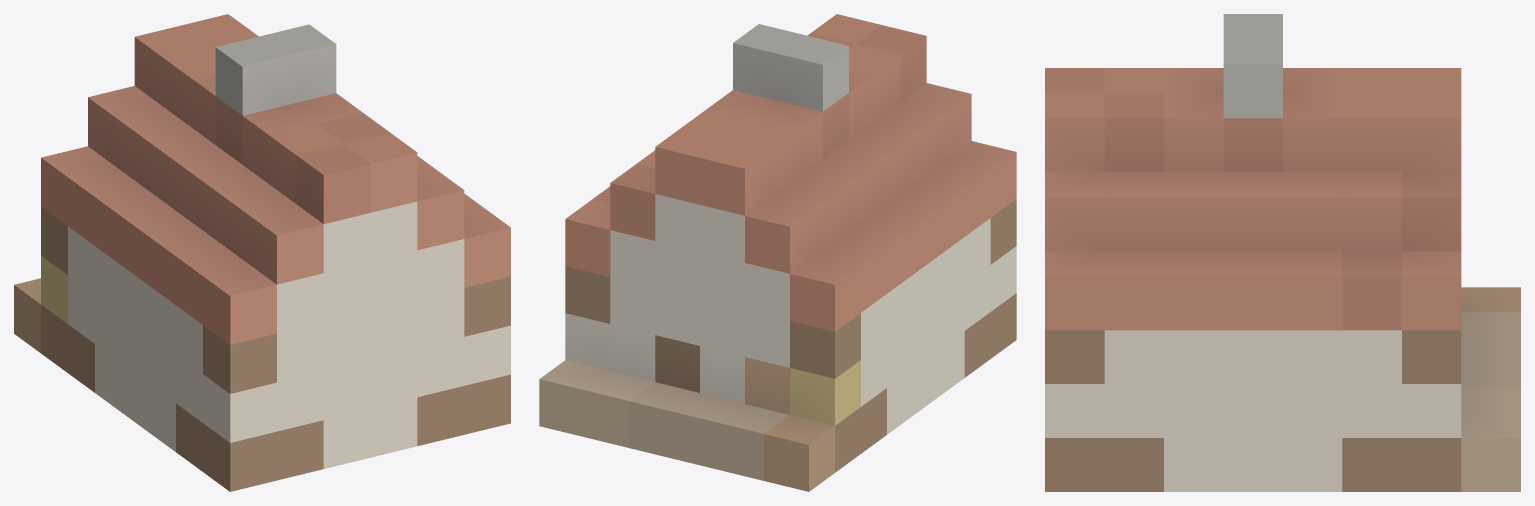
The model's file is hemp_farm.lite.glb.
3 renders of one model, left to right at view 1: azimuth 30°, elevation 25°; view 2: azimuth 150°, elevation 25°; view 3: azimuth 270°, elevation 25°, orthographic. The views are drawn at different scales.
Parts seen in each view (by area): view 1: hemp_farm; view 2: hemp_farm; view 3: hemp_farm.
Boxes of the visible parts, <box> form: hemp_farm: <box>14,14,510,491</box>; hemp_farm: <box>539,14,1016,491</box>; hemp_farm: <box>1045,14,1520,491</box>.
Bounding box in the file's own units: 3 × 3.5 × 4.
